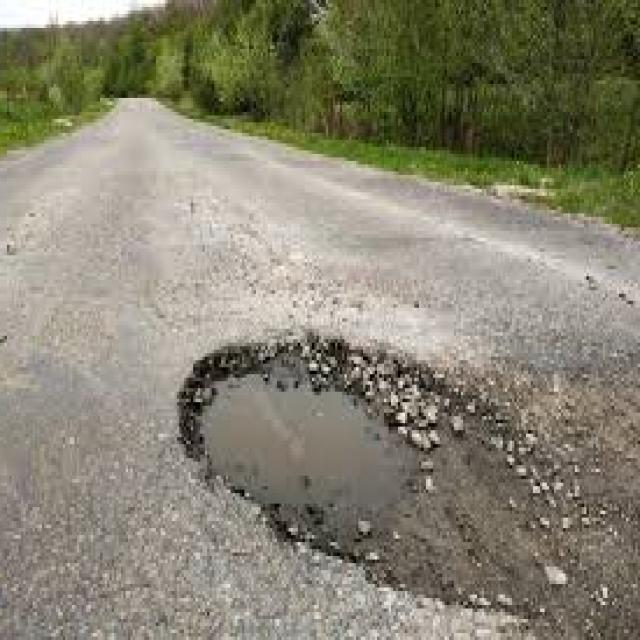pothole: (162, 304, 593, 612)
